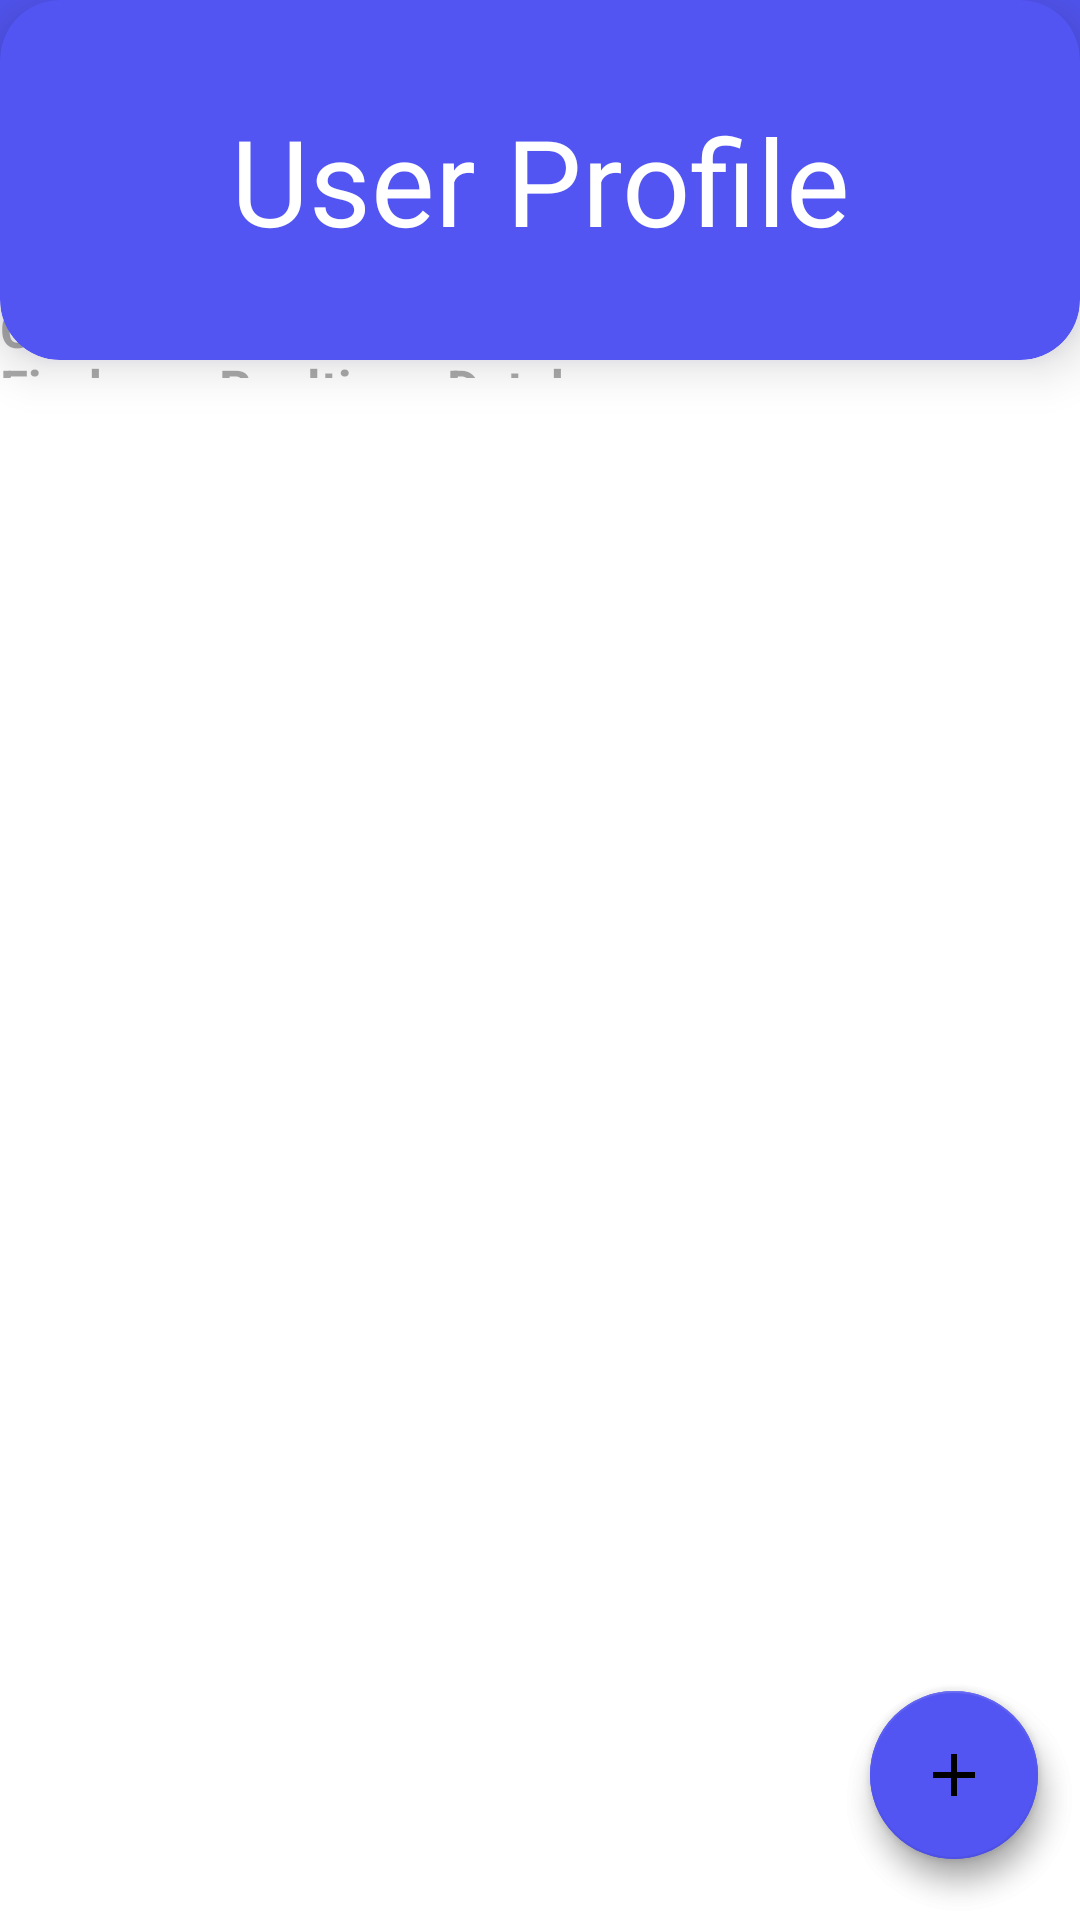

Point at icon controls on the screen. Image size 1080 × 1920, points as [x,y].
add: [954,1775]
